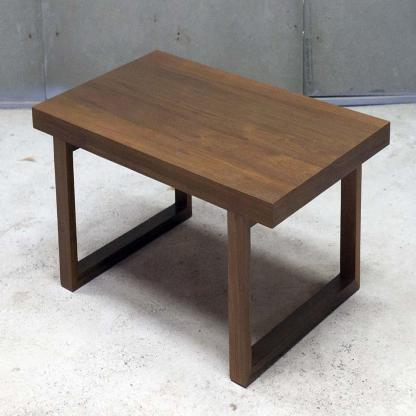table: (29, 44, 393, 389)
